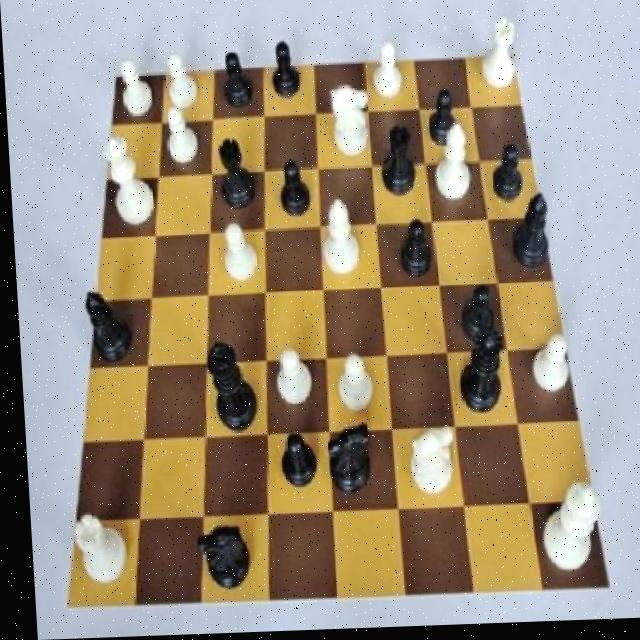bishop: (69, 284, 135, 374), (503, 189, 556, 282)
black-bishop: (194, 333, 259, 447)
black-king: (184, 515, 256, 599), (317, 419, 372, 506)
black-knight: (265, 424, 317, 497), (449, 276, 498, 352), (270, 152, 316, 229), (391, 212, 436, 287), (484, 137, 529, 209), (420, 85, 466, 155), (265, 37, 306, 109), (213, 48, 258, 113)
black-pawn: (450, 325, 510, 424)
black-queen: (207, 133, 261, 217), (374, 117, 420, 203)
black-rook: (424, 120, 481, 211), (314, 191, 366, 285)
white-bishop: (529, 471, 602, 585)
white-king: (318, 79, 376, 163), (400, 424, 455, 507)
white-knight: (523, 318, 574, 408), (212, 217, 263, 290), (327, 348, 375, 425), (110, 53, 157, 122), (161, 48, 205, 118), (159, 105, 204, 172), (267, 344, 313, 409), (367, 39, 409, 109)
white-pawn: (91, 126, 161, 233)
white-queen: (59, 508, 127, 590), (475, 13, 526, 96)
